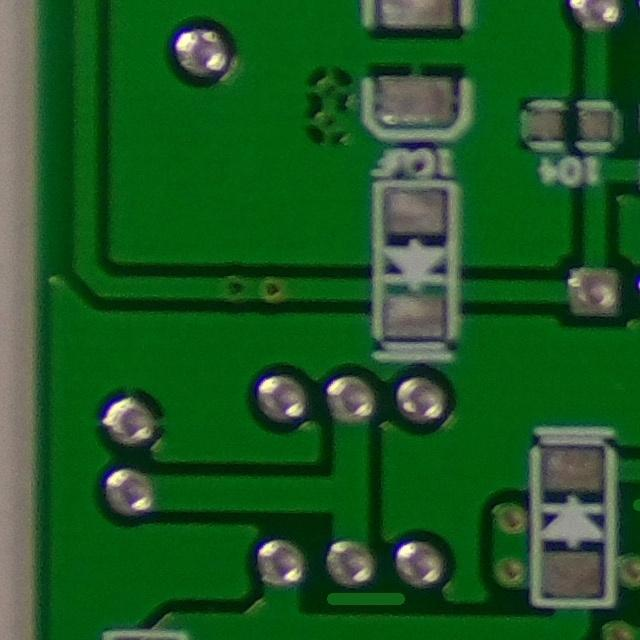spurious_copper: (318, 573, 423, 625)
